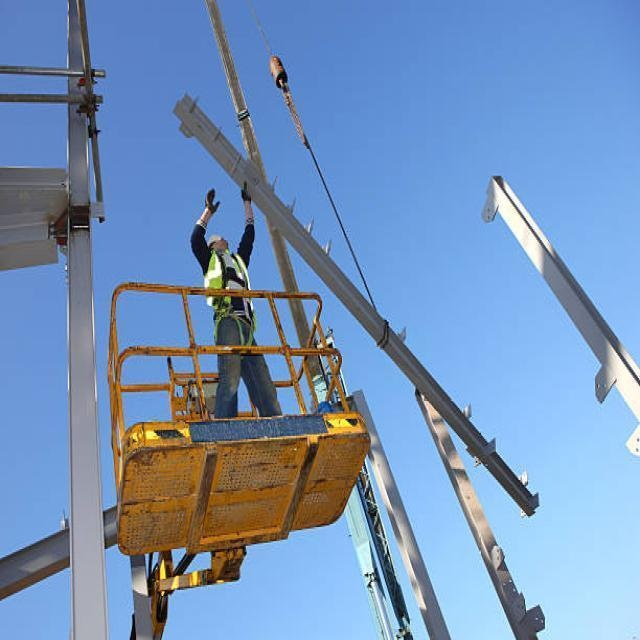Arnes_seguridad: (202, 244, 254, 327)
